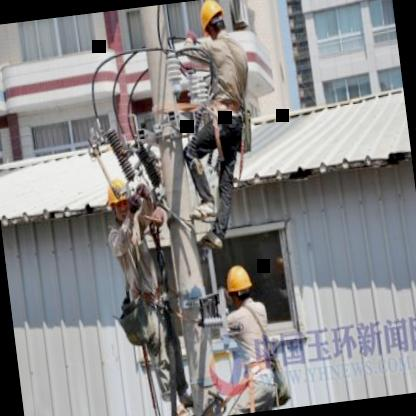helmet: (221, 260, 256, 309), (195, 0, 229, 45), (102, 170, 133, 219)
